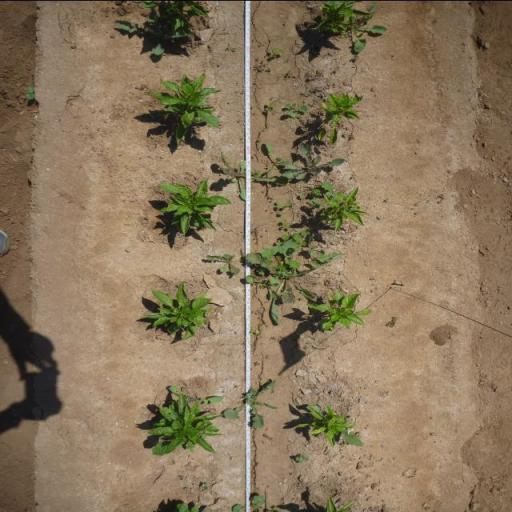plant: (139, 70, 222, 145), (143, 395, 227, 459), (139, 280, 216, 340), (157, 176, 231, 238), (306, 287, 375, 336), (315, 92, 365, 144), (318, 184, 371, 233), (296, 406, 353, 444), (139, 0, 210, 28), (313, 0, 354, 34)
weed: (245, 249, 346, 326), (219, 140, 285, 198), (224, 378, 280, 429), (108, 24, 194, 53), (282, 142, 348, 179), (346, 1, 391, 53), (168, 383, 225, 406), (260, 246, 302, 275), (297, 178, 340, 206), (204, 249, 245, 275), (230, 493, 283, 512), (276, 226, 311, 248), (246, 274, 278, 298), (284, 100, 309, 116), (274, 200, 295, 214), (304, 243, 326, 256), (384, 314, 400, 328), (25, 82, 37, 100), (267, 46, 283, 57), (252, 60, 265, 71), (295, 453, 309, 463), (264, 100, 276, 111), (280, 218, 292, 228), (226, 43, 236, 51), (250, 328, 260, 334), (292, 114, 302, 120), (351, 53, 359, 60), (199, 482, 208, 488), (286, 69, 293, 76), (262, 432, 270, 438), (253, 360, 261, 366), (180, 385, 186, 392), (270, 335, 278, 340), (268, 196, 274, 202), (264, 66, 272, 70), (330, 488, 334, 494), (255, 310, 261, 314), (267, 437, 274, 440), (184, 487, 188, 491), (257, 316, 262, 319), (193, 358, 198, 360), (263, 452, 268, 454)
